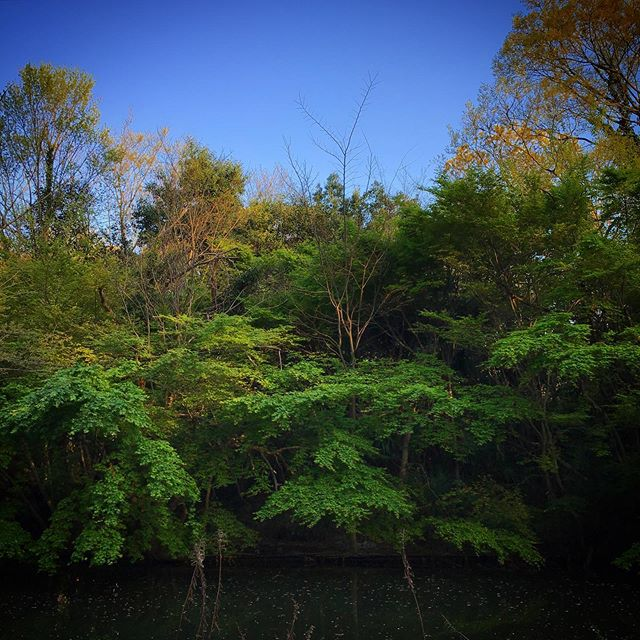river: (10, 567, 640, 640)
sky: (40, 1, 640, 161)
vegetation: (1, 126, 610, 567)
